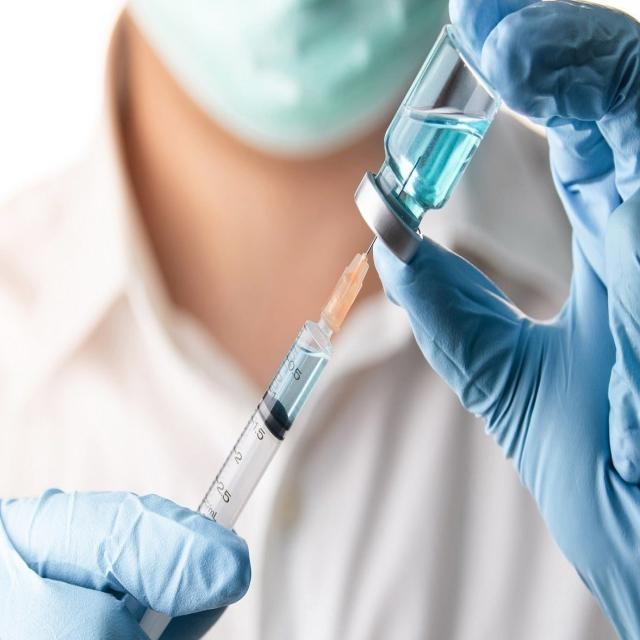syringe: (163, 235, 384, 530)
